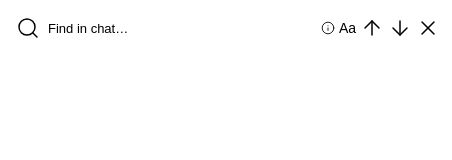
Scenario: SearchBar › minimum search length › says nothing when the box is empty, which is browsing and not a short query
The width and height of the screenshot is (452, 160).
Type "r" into the field with placeholder "Find in chat…" at (180,28), box [44,12,317,44]
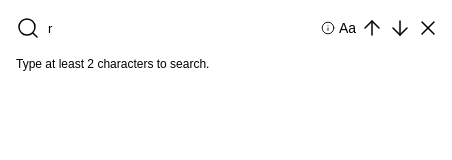
Clear the field with placeholder "Find in chat…" at (180,28), box [44,12,317,44]
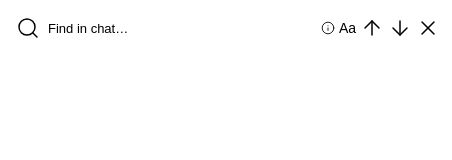
Expected: the message with test id "conversation-search-bar-minimum" is gone
